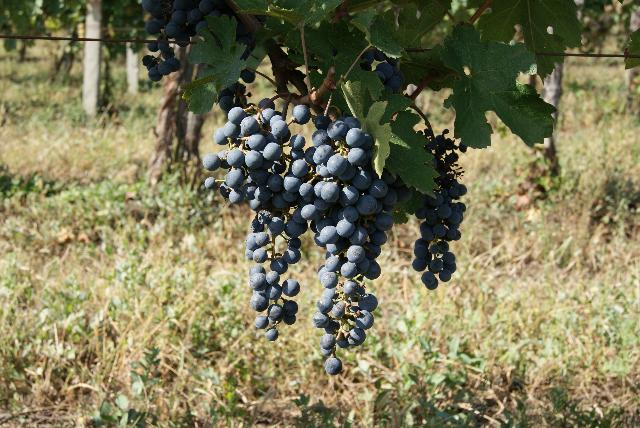grapes: (280, 118, 410, 375), (202, 82, 309, 341), (412, 130, 468, 290)
